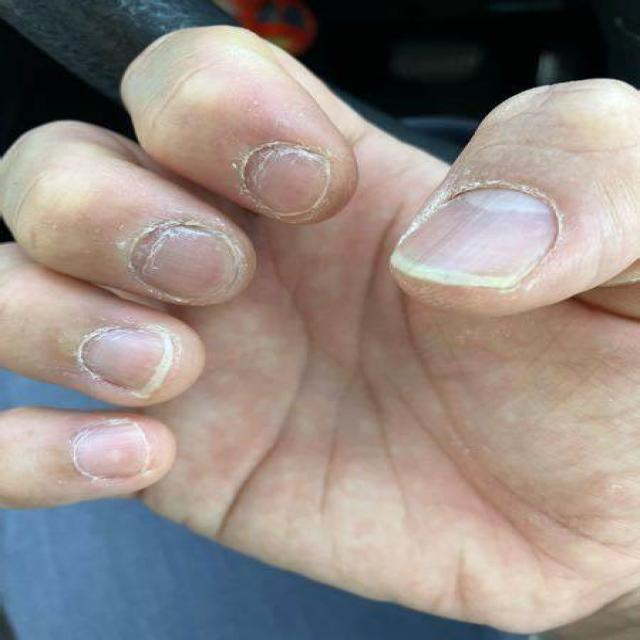Fingernail: (392, 187, 556, 289), (134, 225, 239, 302), (245, 145, 329, 218), (82, 328, 172, 396), (74, 423, 147, 477)
